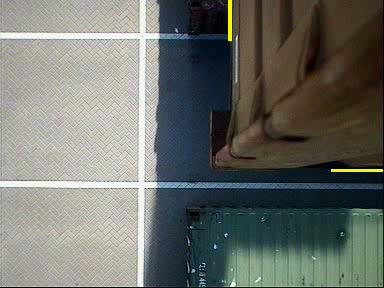groundmarker_2: (20, 84, 122, 157)
